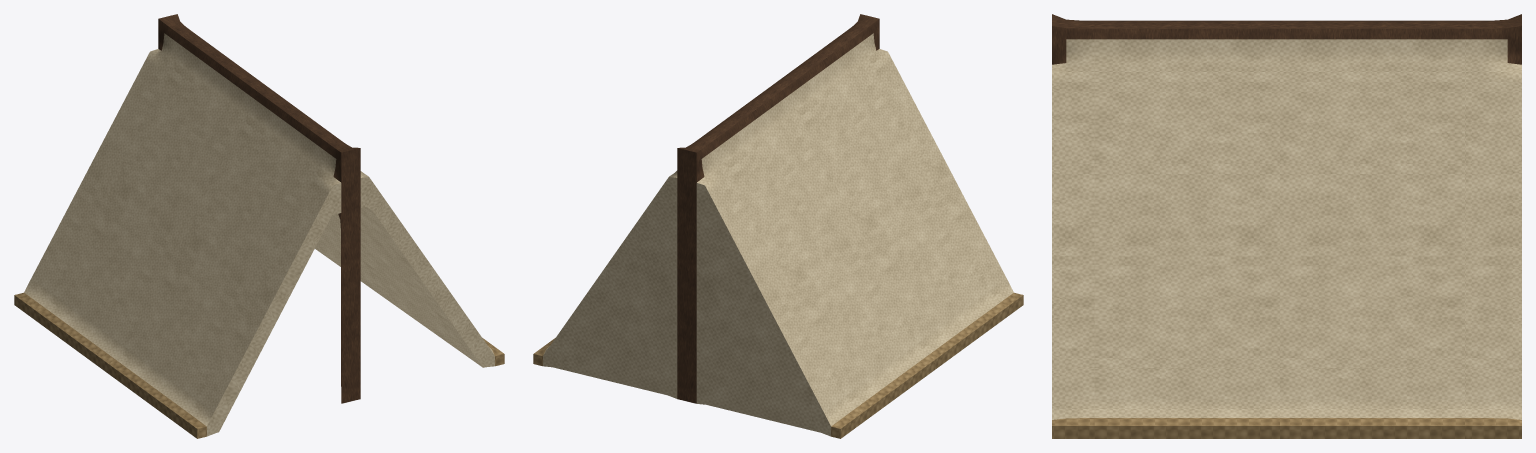
File: prop_tent.glb
The picture shows the model from 3 angles, left to right: view 1: azimuth 30°, elevation 25°; view 2: azimuth 150°, elevation 25°; view 3: azimuth 270°, elevation 25°; orthographic projection. The views are drawn at different scales.
Visible parts, largest first — view 1: wilds_prop_tent; view 2: wilds_prop_tent; view 3: wilds_prop_tent.
Part boxes in pixels (x1=…): wilds_prop_tent: x1=14, y1=14, x2=504, y2=438; wilds_prop_tent: x1=533, y1=14, x2=1023, y2=438; wilds_prop_tent: x1=1052, y1=14, x2=1521, y2=438.
Size of the model in its own units: 2.5 by 1.95 by 2.58.
1 material, 1 textured.
